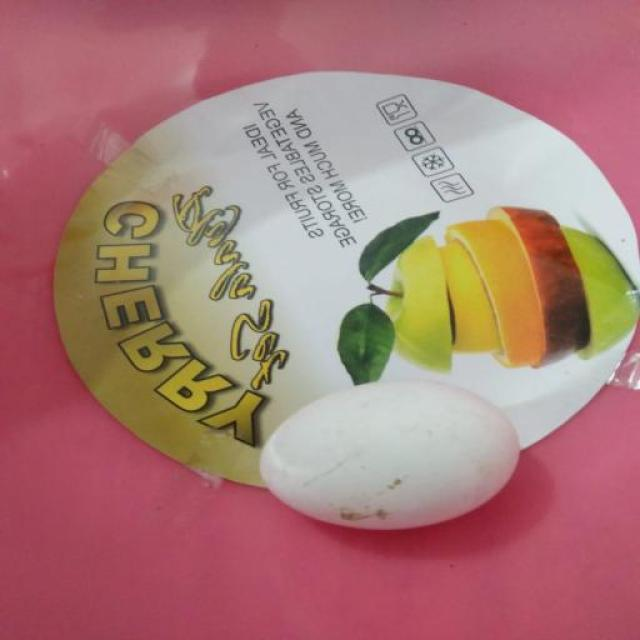telur: (260, 378, 519, 530)
